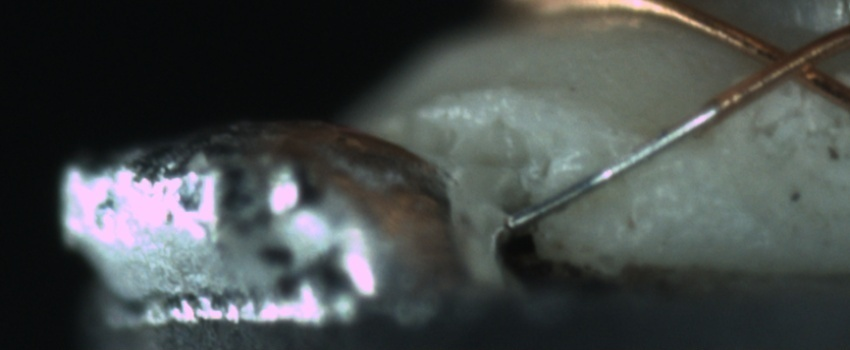CL: (743, 28, 841, 94)
TS: (503, 104, 721, 231)
TTCW: (509, 83, 743, 231)
